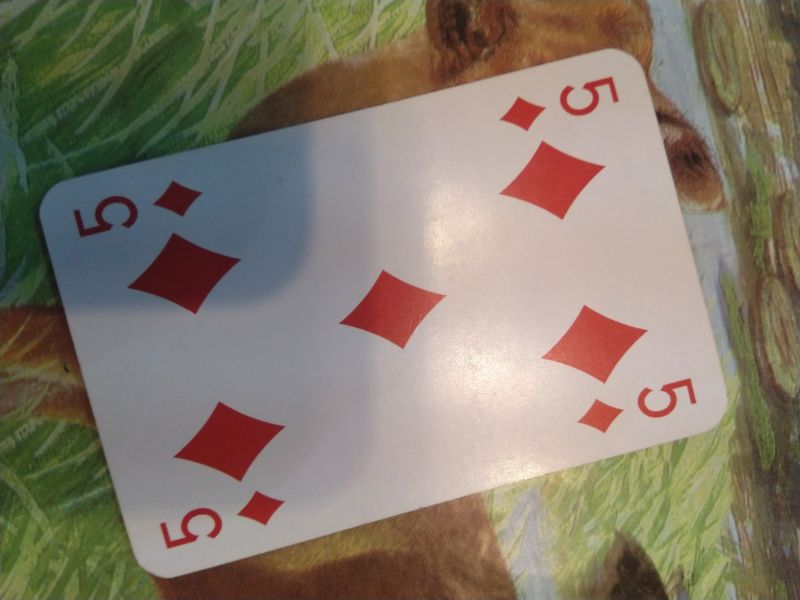5d: (65, 177, 210, 239), (493, 69, 629, 135), (154, 486, 286, 553), (571, 374, 701, 437)
